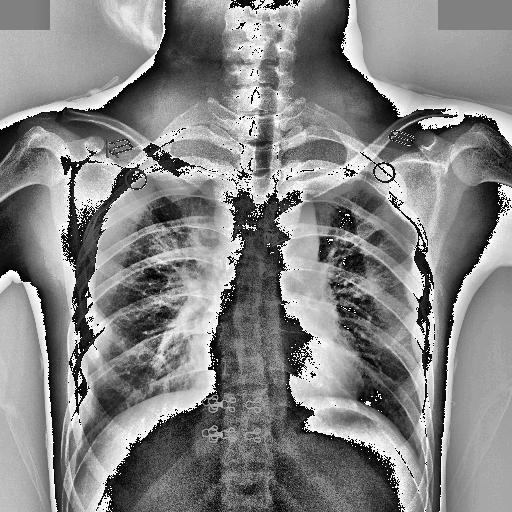11- Pleural thickening: (279, 120, 427, 368), (278, 124, 428, 284), (276, 122, 424, 274), (122, 124, 244, 249), (144, 124, 237, 250), (72, 204, 112, 448), (72, 217, 112, 435), (143, 126, 247, 206), (66, 292, 112, 426), (401, 236, 432, 374), (406, 245, 437, 363)
7- Lung Opacity: (279, 120, 427, 368), (276, 122, 424, 274), (122, 124, 244, 249), (144, 124, 237, 250), (72, 204, 112, 448), (66, 292, 112, 426), (401, 236, 432, 374), (298, 146, 365, 198), (152, 152, 217, 201)
8- Nodule-Mass: (279, 120, 427, 368), (144, 124, 237, 250), (66, 292, 112, 426)
